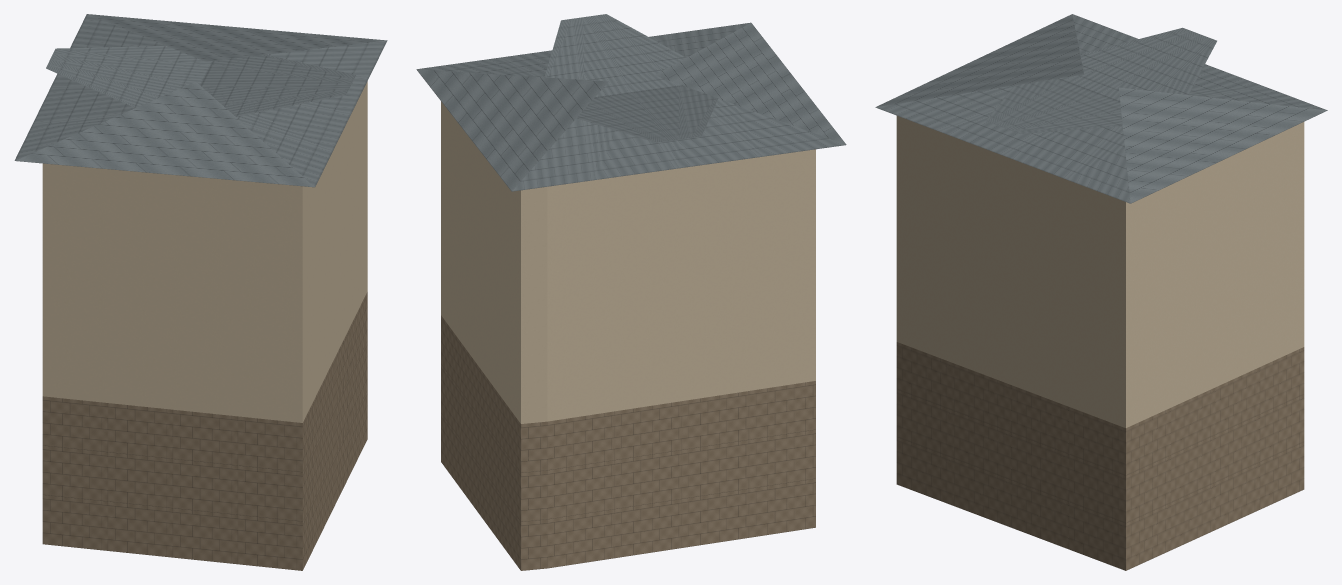
The model's file is bld_c10_17_441.gltf.
3 views of the same model, side by side, from view 1: azimuth 30°, elevation 25°; view 2: azimuth 150°, elevation 25°; view 3: azimuth 270°, elevation 25° (orthographic). The views are drawn at different scales.
Visible parts, largest first — view 1: bld_c10_17_441; view 2: bld_c10_17_441; view 3: bld_c10_17_441.
Part boxes in pixels (bbox=[...]): bld_c10_17_441: bbox=[14, 14, 387, 570]; bld_c10_17_441: bbox=[416, 14, 846, 570]; bld_c10_17_441: bbox=[875, 14, 1327, 570].
Bounding box in the file's own units: 14.55 × 14.5 × 14.67.
3 materials, 3 textured.
